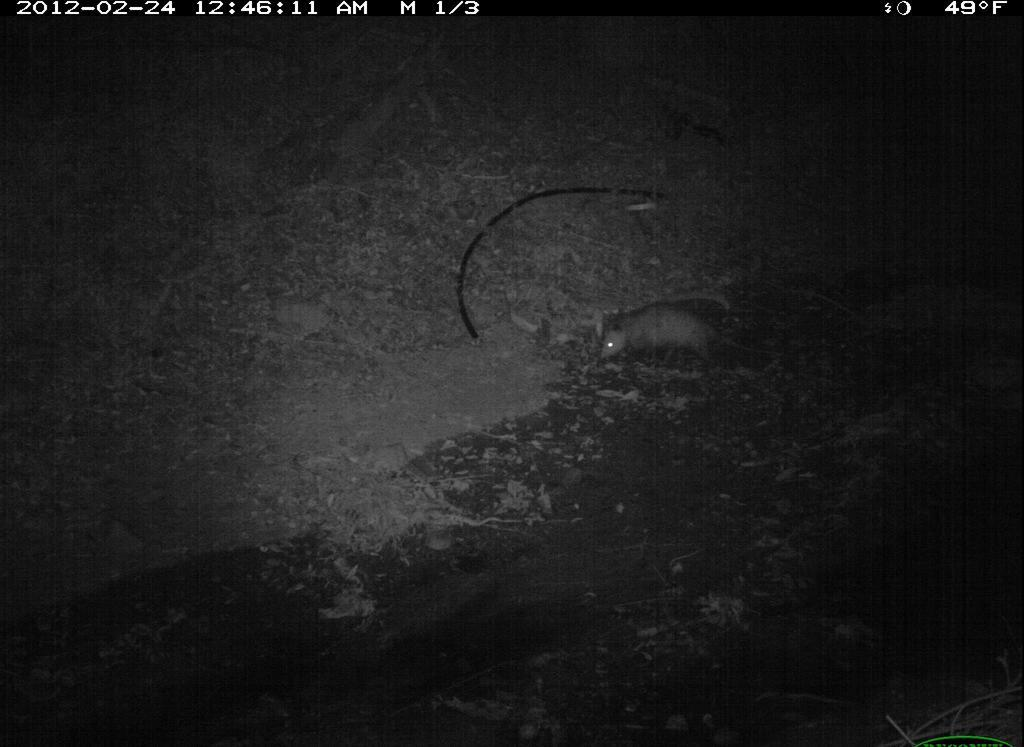opossum: (589, 292, 776, 381)
